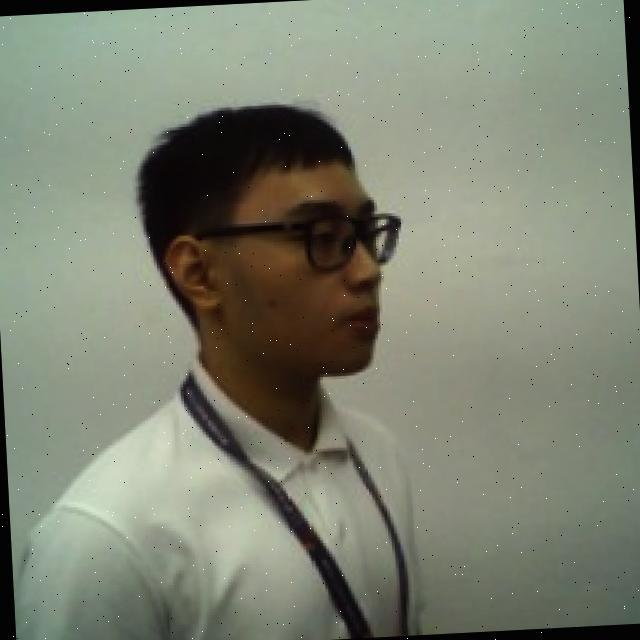no_gloves: (128, 94, 382, 241)
no_hairnet: (168, 226, 393, 403)
